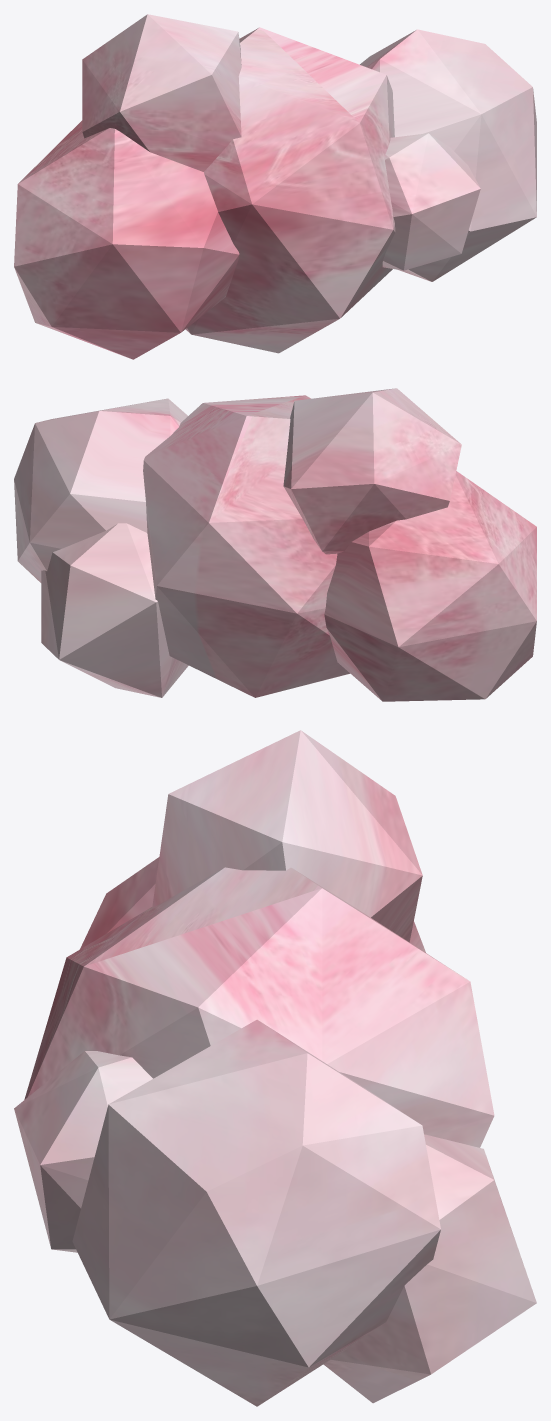
The model's file is Cloud5.fbx.
3 renders of one model, top to bottom at view 1: azimuth 30°, elevation 25°; view 2: azimuth 150°, elevation 25°; view 3: azimuth 270°, elevation 25°, orthographic. The views are drawn at different scales.
Parts seen in each view (by area): view 1: Cloud_4; view 2: Cloud_4; view 3: Cloud_4.
Boxes of the visible parts, <box> form: Cloud_4: <box>14,14,536,359</box>; Cloud_4: <box>14,388,536,701</box>; Cloud_4: <box>14,730,536,1406</box>.
Bounding box in the file's own units: 35.54 × 21.79 × 20.55.
1 material, 1 textured.
